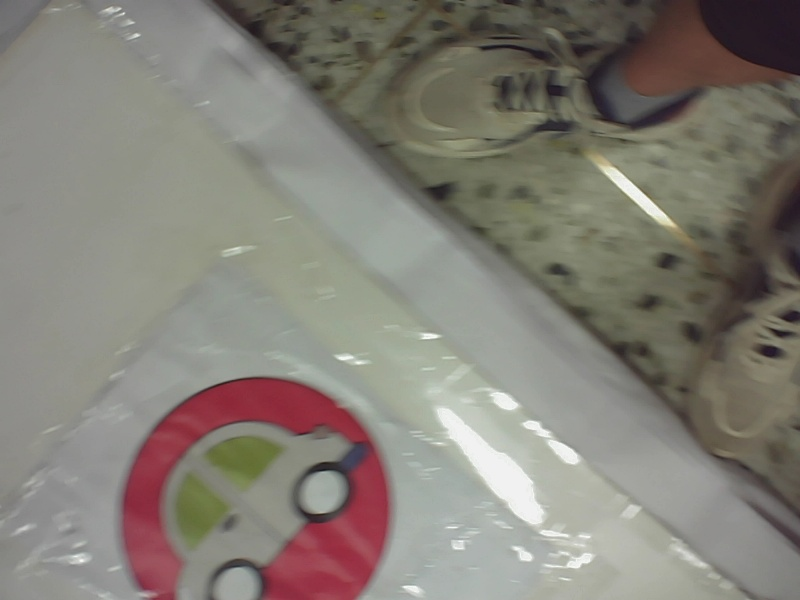areaC: (99, 369, 394, 593)
